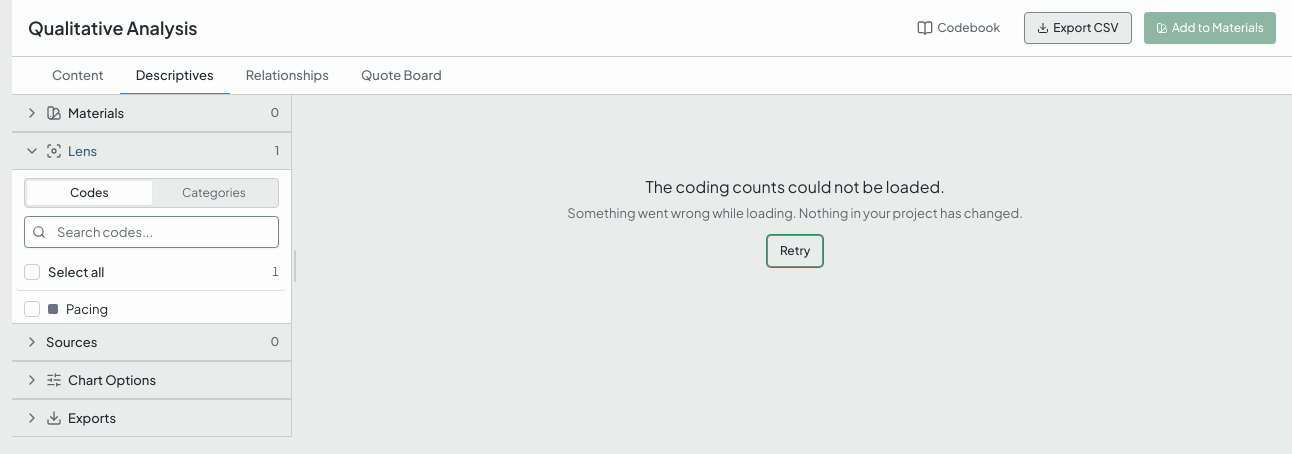
Test case: #961 — Qualitative Analysis waits for the count before claiming anything › a FAILED count says the count failed; Retry asks again and lands focus on the tab
Expected: the text "The coding counts could not be loaded." is shown, [646, 176, 945, 197]
Expected: the text "has been coded yet" is not shown
Click the button "Retry": (795, 251) [767, 235, 823, 267]
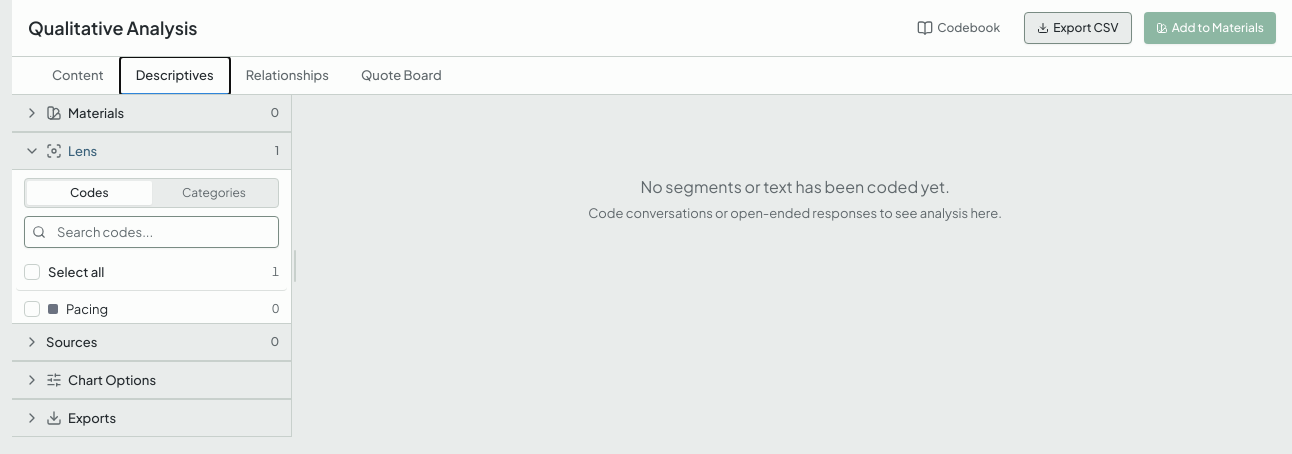
Now the text "No segments or text has been coded yet." is shown, box [640, 176, 950, 197]
